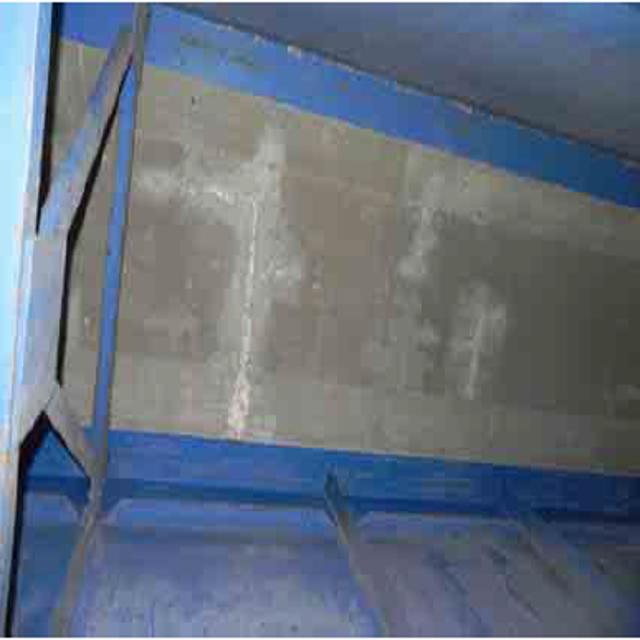freelime: (228, 194, 256, 439)
